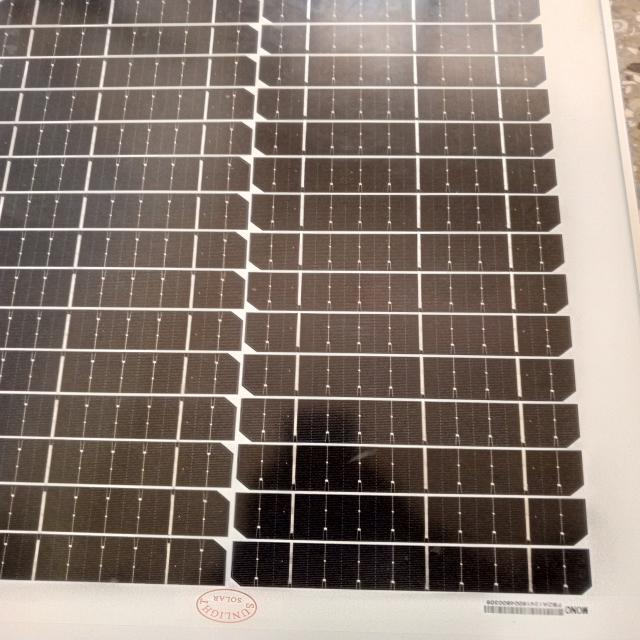Clean: (24, 11, 598, 606)
